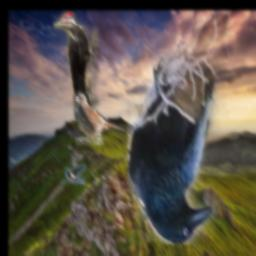Crow: (129, 11, 232, 246)
Sparrow: (73, 91, 126, 145)
Swallow: (66, 165, 87, 185)
Woodpecker: (54, 12, 99, 113)
